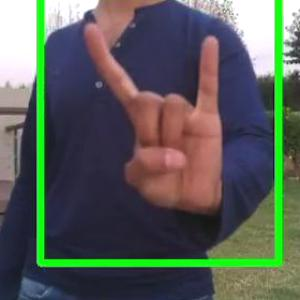takeoff-hand: (76, 10, 230, 234)
